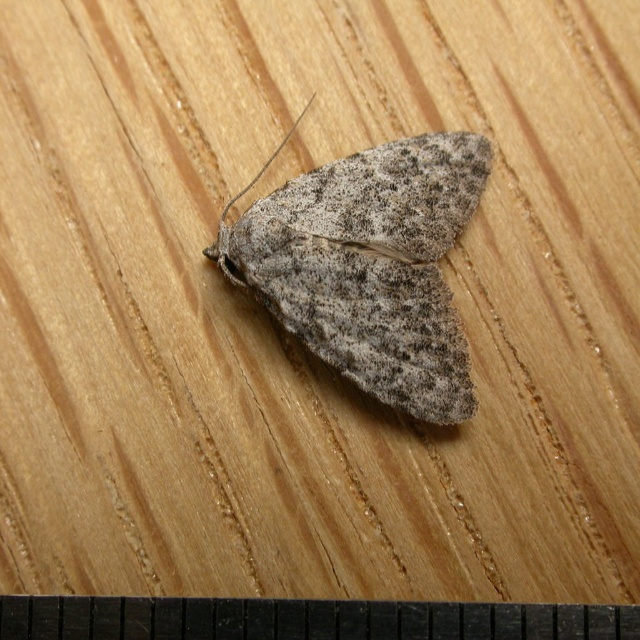Moths and butterflies: (204, 90, 500, 430)
